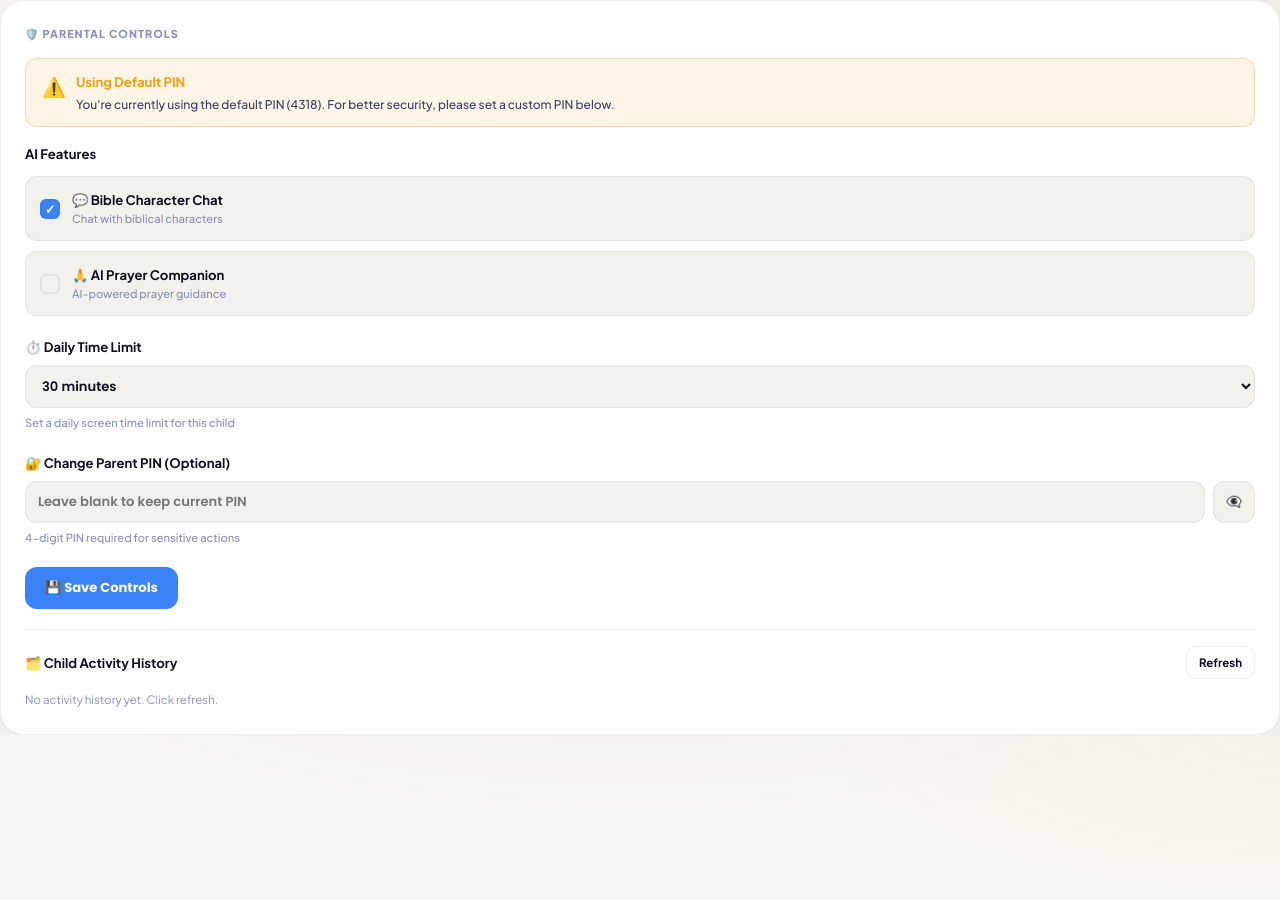
ParentalControlsPanel › shows PIN modal when save is clicked
Click the button "💾 Save Controls": (101, 588) 25,567 -> 178,609
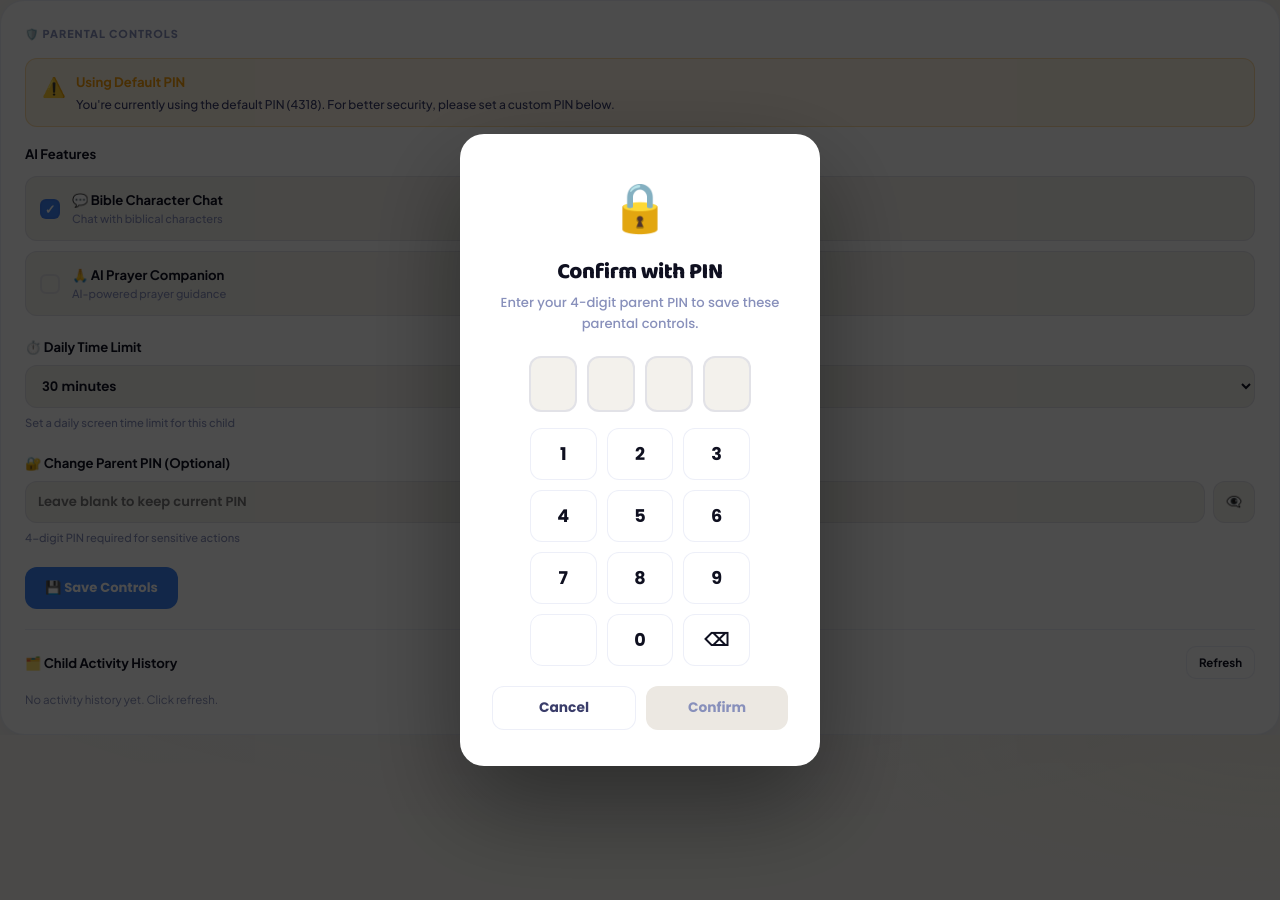
Check: the heading "Confirm with PIN" is shown, box 557,254 -> 723,290
